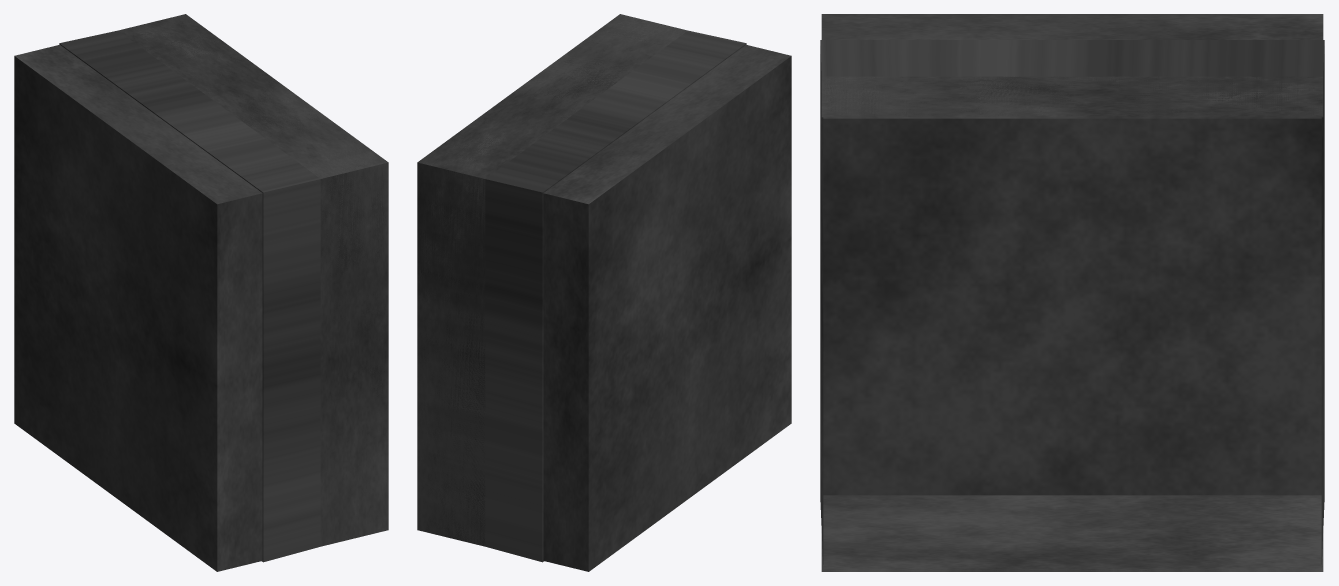
The model's file is keyHold.fbx.
3 renders of one model, left to right at view 1: azimuth 30°, elevation 25°; view 2: azimuth 150°, elevation 25°; view 3: azimuth 270°, elevation 25°, orthographic. The views are drawn at different scales.
Visible parts, largest first — view 1: Cube; view 2: Cube; view 3: Cube.
Part boxes in pixels (bbox=[...]): Cube: bbox=[14, 14, 388, 571]; Cube: bbox=[417, 14, 791, 571]; Cube: bbox=[820, 14, 1324, 571].
Bounding box in the file's own units: 97.62 × 201 × 201.
